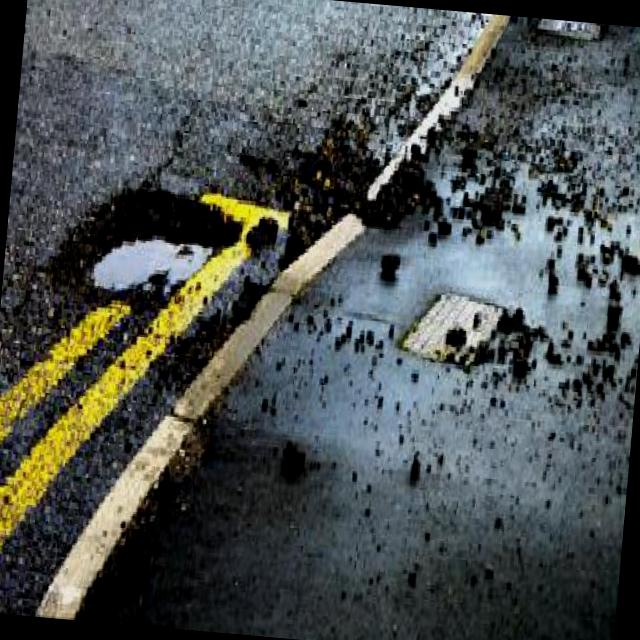Lubang: (47, 187, 242, 293)
